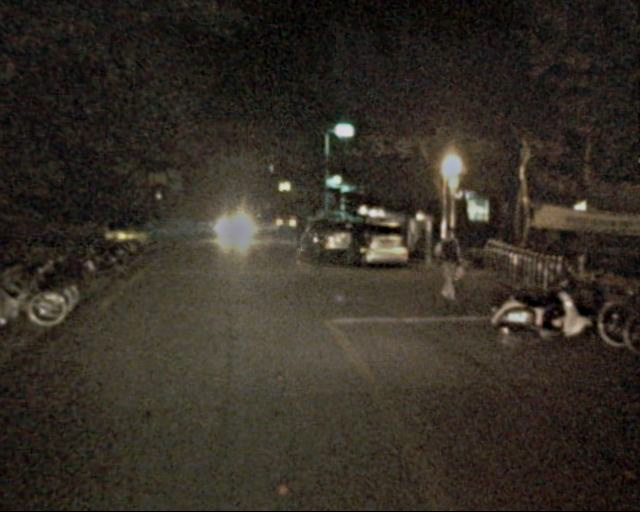person: (434, 228, 466, 306)
